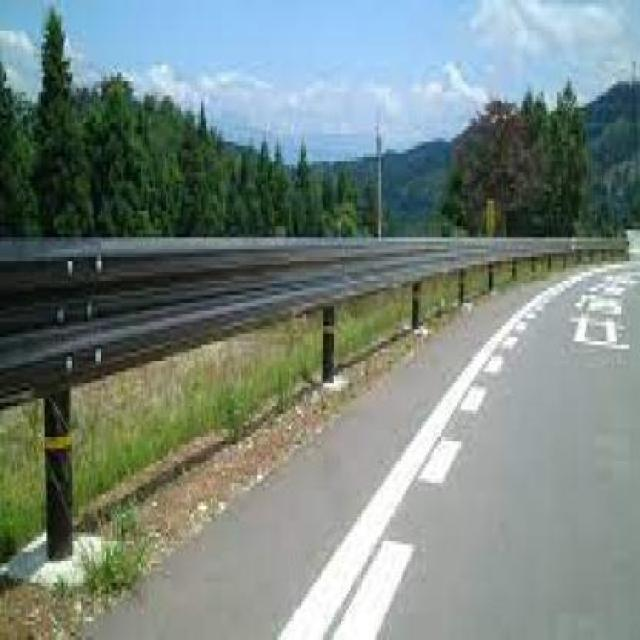Guard rail: (0, 233, 628, 569)
